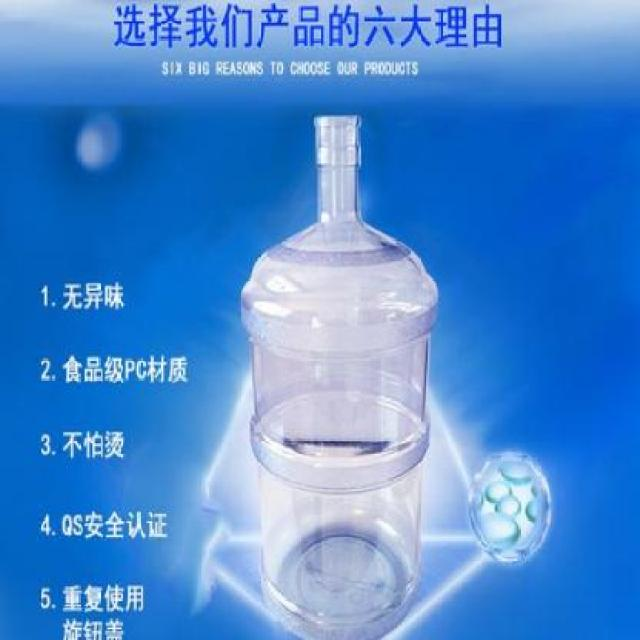coolerbottle: (238, 106, 442, 639)
